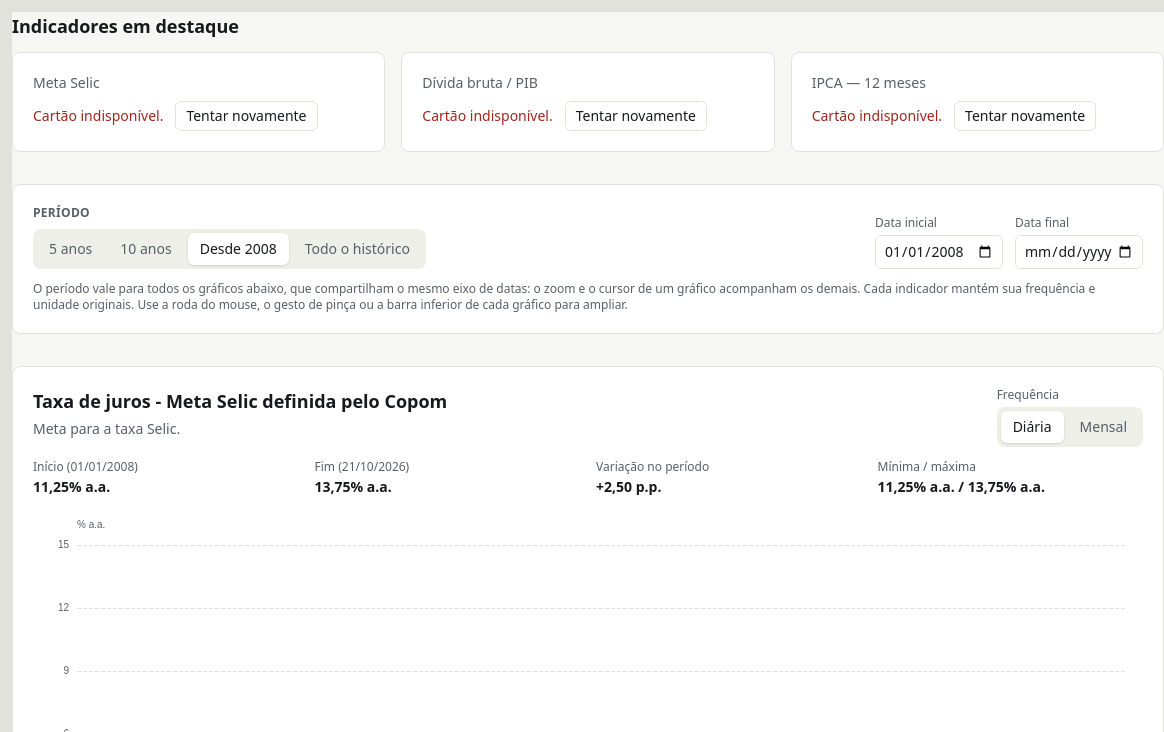
Scenario: Dashboard loading and error states › offers retry on a failed card and recovers
The width and height of the screenshot is (1164, 732).
Expected: the 1st text "Cartão indisponível." is shown, [33,106,163,126]
Click the 1st button "Tentar novamente": click(246, 116) [175,101,318,131]
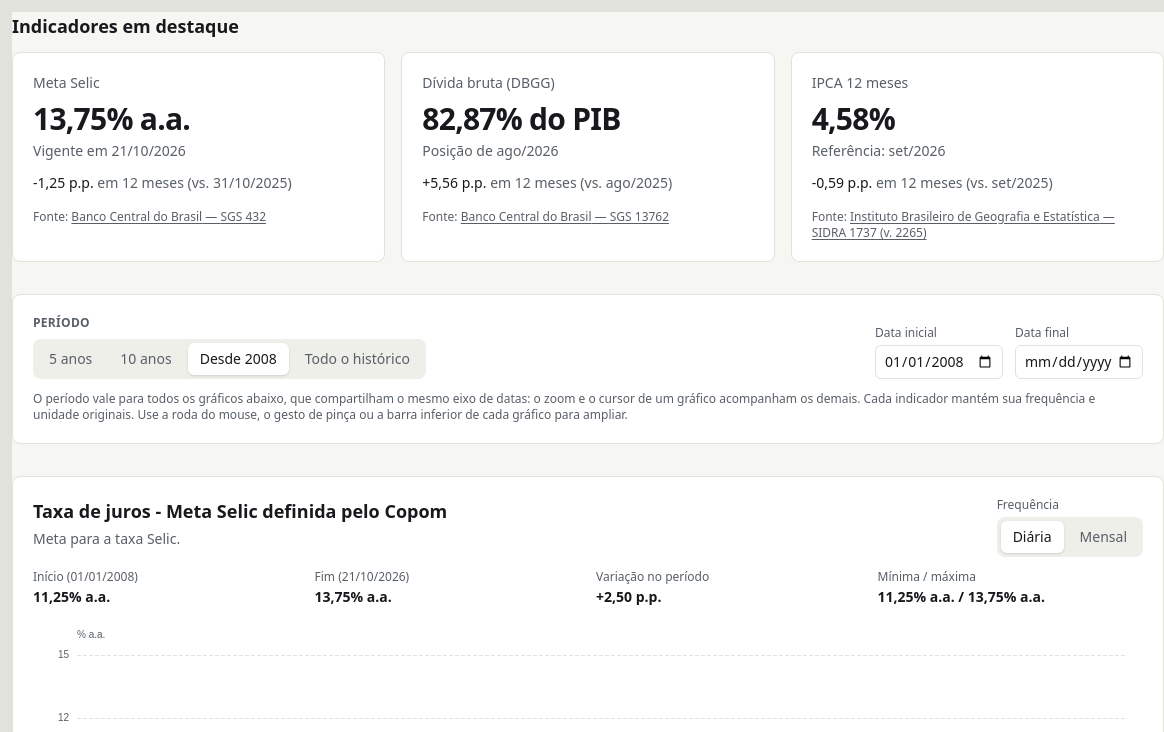
Expected: the text "13,75% a.a." below "Dívida bruta (DBGG)" is shown, [33,98,190,139]
